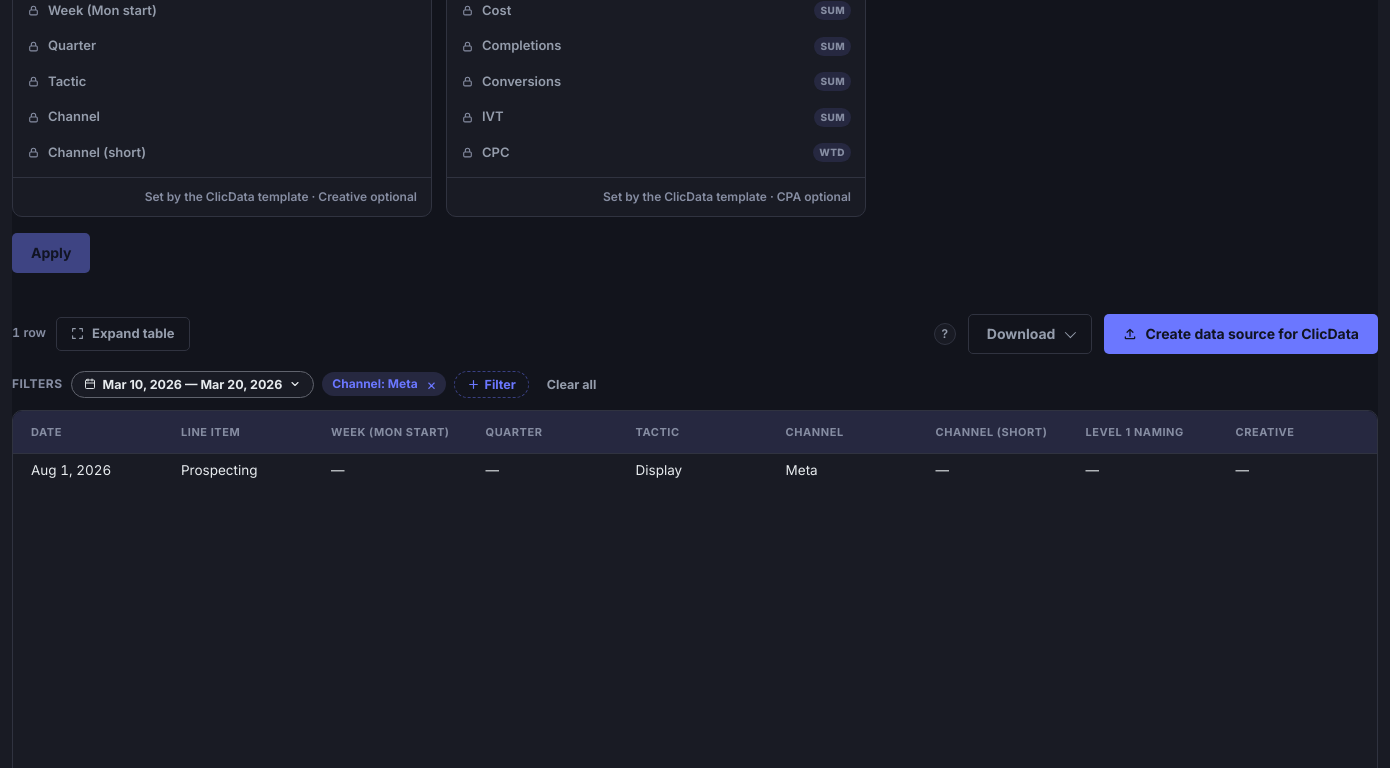
Test: DashboardsTab › should clear every filter but keep the date window when Clear all is used
This screenshot has width=1390, height=768.
(page scrolled)
expect the button "Channel: Meta" is shown: met, box [332,375,418,393]
Click the button "Clear all" at (572, 384), box [537,372,606,397]
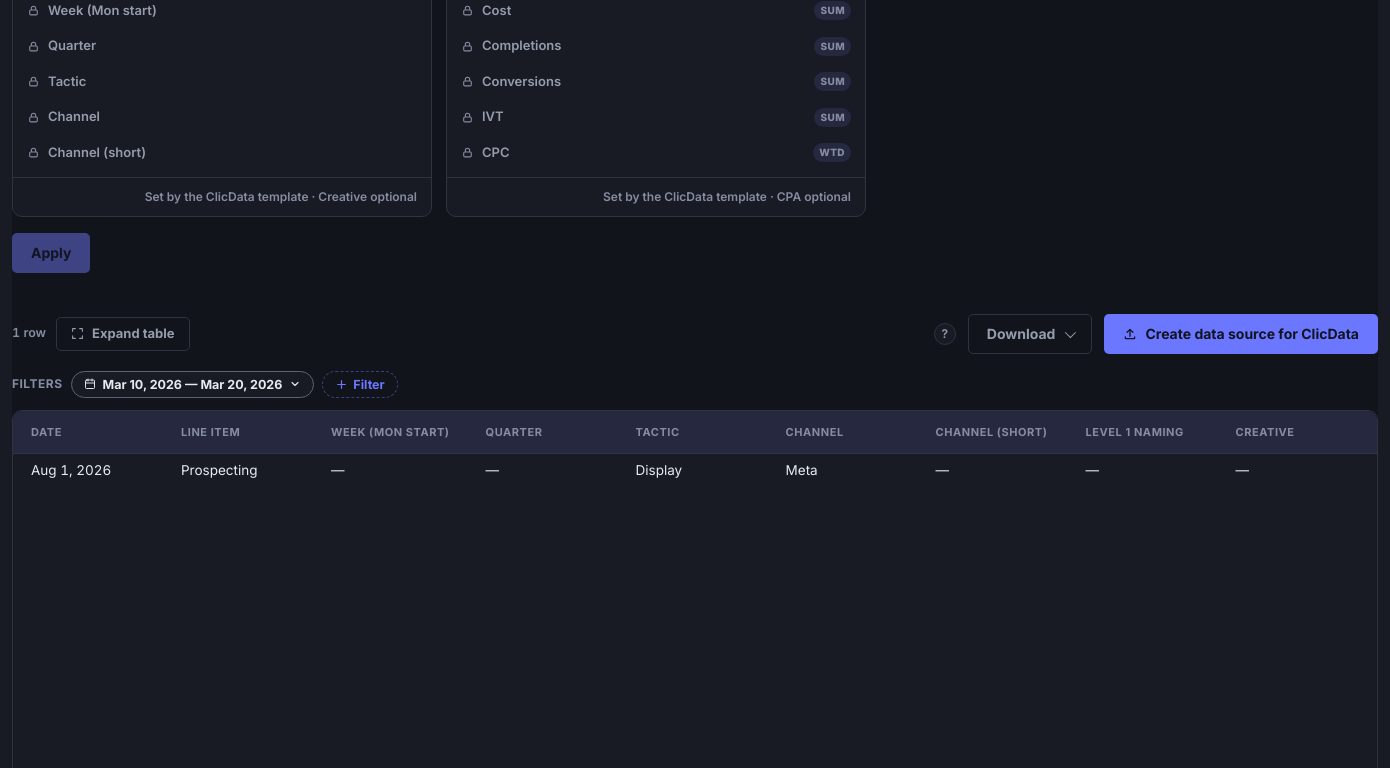
expect the button "Mar 10, 2026 — Mar 20, 2026" is shown: met, box [70,371,314,398]
expect the button "Channel: Meta" is gone: met
